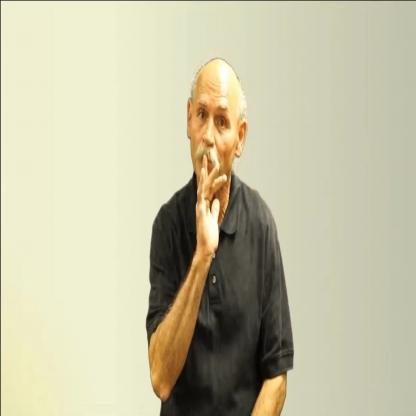Talk: (180, 47, 251, 292)
